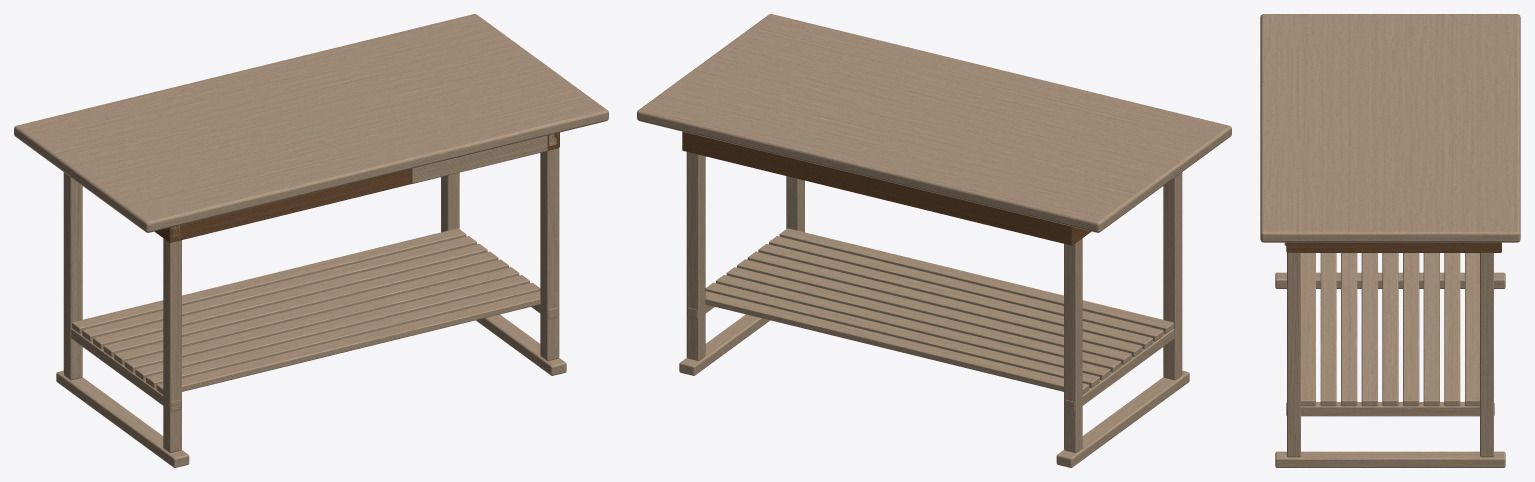
3 renders of one model, left to right at view 1: azimuth 30°, elevation 25°; view 2: azimuth 150°, elevation 25°; view 3: azimuth 270°, elevation 25°, orthographic. The views are drawn at different scales.
Parts seen in each view (by area): view 1: Ash top, Shelf slat 1, Shadow-gap apron, Shelf slat 4, Shelf slat 2, Shelf slat 3, Shelf slat 5, Shelf slat 6, Shelf slat 8, Shelf slat 9, Shelf slat 7, Post RF (+7 smaller); view 2: Ash top, Shadow-gap apron, Shelf slat 9, Shelf slat 6, Shelf slat 2, Shelf slat 4, Shelf slat 5, Shelf slat 7, Shelf slat 8, Shelf slat 1, Shelf slat 3, Post RB (+6 smaller); view 3: Ash top, Foot runner R, Post RF, Post RB, Shelf slat 2, Shelf slat 5, Shelf slat 8, Shelf slat 3, Shelf slat 7, Shelf slat 4, Shelf slat 6, Shadow-gap apron (+4 smaller).
Part boxes in pixels (left/top/right/bottom): Ash top: left=14, top=14, right=608, bottom=232; Shelf slat 1: left=156, top=291, right=540, bottom=394; Shadow-gap apron: left=154, top=132, right=559, bottom=242; Shelf slat 4: left=124, top=267, right=519, bottom=372; Shelf slat 2: left=146, top=282, right=540, bottom=388; Shelf slat 3: left=135, top=275, right=529, bottom=380; Shelf slat 5: left=114, top=259, right=508, bottom=364; Shelf slat 6: left=103, top=251, right=498, bottom=357; Shelf slat 8: left=82, top=236, right=476, bottom=341; Shelf slat 9: left=72, top=228, right=466, bottom=333; Shelf slat 7: left=93, top=244, right=487, bottom=349; Post RF: left=540, top=148, right=559, bottom=360; Ash top: left=637, top=14, right=1231, bottom=232; Shadow-gap apron: left=682, top=131, right=1091, bottom=245; Shelf slat 9: left=705, top=291, right=1089, bottom=394; Shelf slat 6: left=726, top=267, right=1121, bottom=372; Shelf slat 2: left=769, top=236, right=1163, bottom=341; Shelf slat 4: left=747, top=251, right=1142, bottom=357; Shelf slat 5: left=737, top=259, right=1131, bottom=364; Shelf slat 7: left=716, top=275, right=1110, bottom=380; Shelf slat 8: left=705, top=282, right=1099, bottom=388; Shelf slat 1: left=779, top=228, right=1173, bottom=333; Shelf slat 3: left=758, top=244, right=1152, bottom=349; Post RB: left=686, top=152, right=705, bottom=360; Ash top: left=1260, top=14, right=1520, bottom=242; Foot runner R: left=1275, top=451, right=1505, bottom=467; Post RF: left=1287, top=252, right=1300, bottom=457; Post RB: left=1480, top=252, right=1493, bottom=457; Shelf slat 2: left=1320, top=253, right=1336, bottom=406; Shelf slat 5: left=1382, top=253, right=1398, bottom=406; Shelf slat 8: left=1444, top=253, right=1460, bottom=406; Shelf slat 3: left=1341, top=253, right=1357, bottom=406; Shelf slat 7: left=1423, top=253, right=1439, bottom=406; Shelf slat 4: left=1361, top=253, right=1377, bottom=406; Shelf slat 6: left=1403, top=253, right=1419, bottom=406; Shadow-gap apron: left=1286, top=242, right=1501, bottom=252.
Bounding box in the file's own units: 1.4 × 0.75 × 0.7.
Materials: 3 (3 with a texture image).
